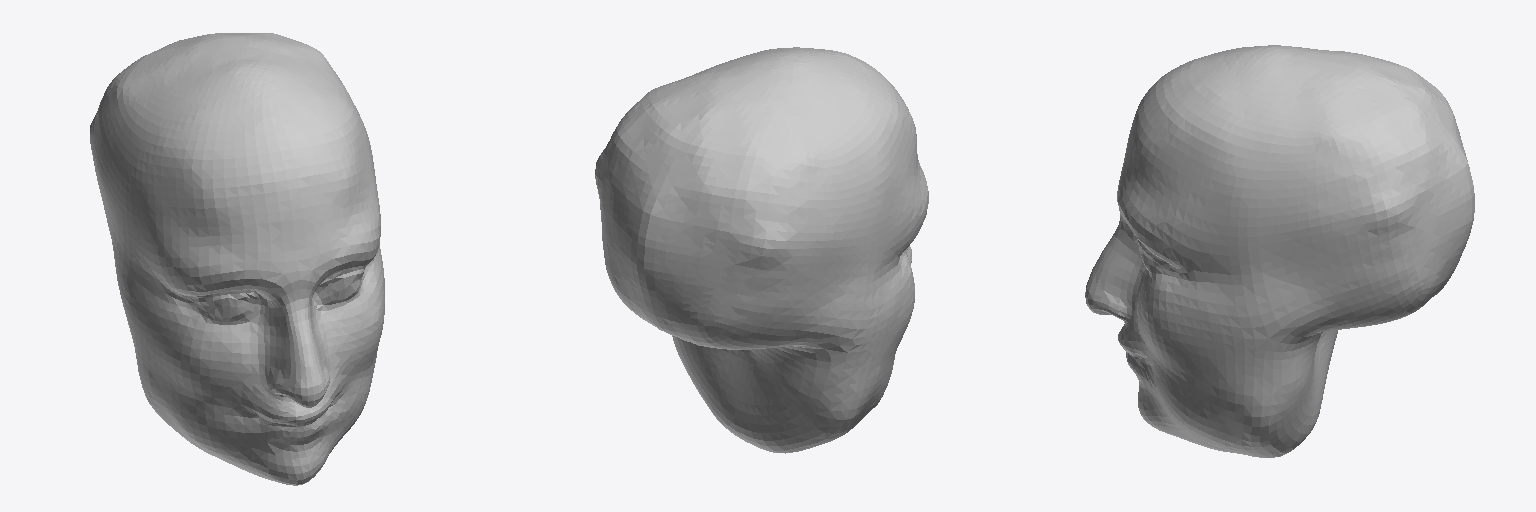
File: head.obj
3 views of the same model, side by side, from view 1: azimuth 30°, elevation 25°; view 2: azimuth 150°, elevation 25°; view 3: azimuth 270°, elevation 25° (orthographic).
Visible parts, largest first — view 1: Head_low_ZBrush_defualt_group; view 2: Head_low_ZBrush_defualt_group; view 3: Head_low_ZBrush_defualt_group.
Boxes of the visible parts, <box> form: Head_low_ZBrush_defualt_group: <box>90,33,384,485</box>; Head_low_ZBrush_defualt_group: <box>595,47,928,453</box>; Head_low_ZBrush_defualt_group: <box>1085,45,1474,457</box>.
Size of the model in its own units: 1.9 by 2.96 by 2.66.